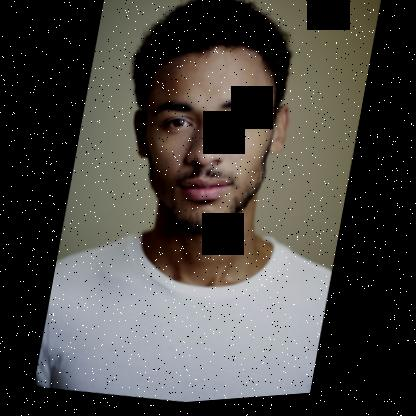Male: (113, 31, 302, 252)
